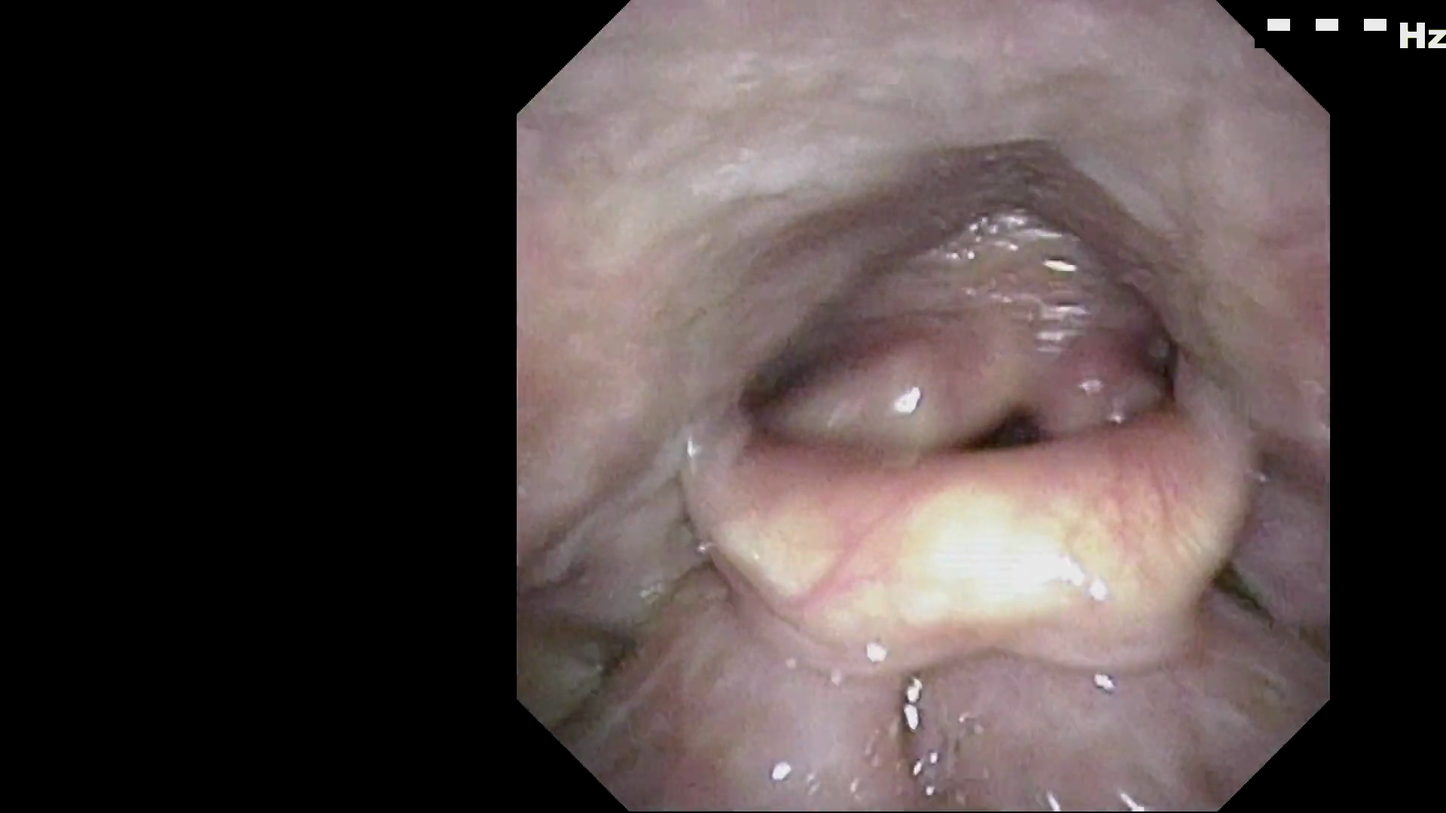epiglottis: (670, 338, 1249, 518)
trachea: (962, 390, 1056, 444)
